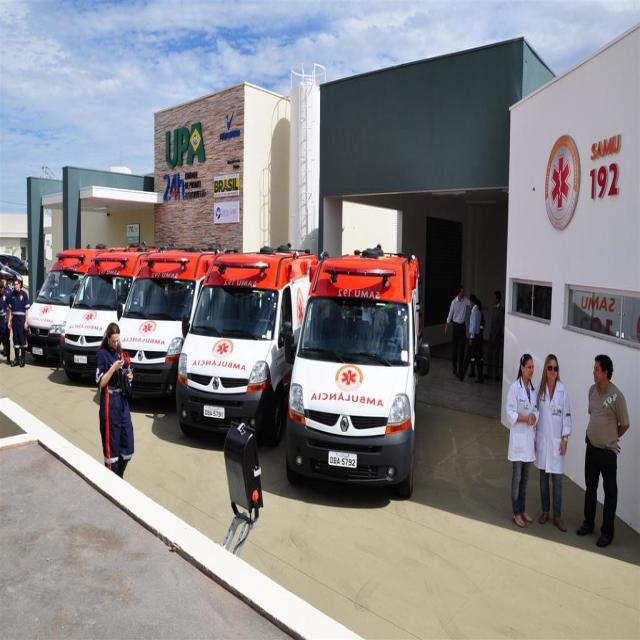Ambulance: (282, 249, 422, 496), (171, 243, 313, 434), (118, 248, 209, 404), (61, 248, 148, 384), (23, 252, 94, 364)
